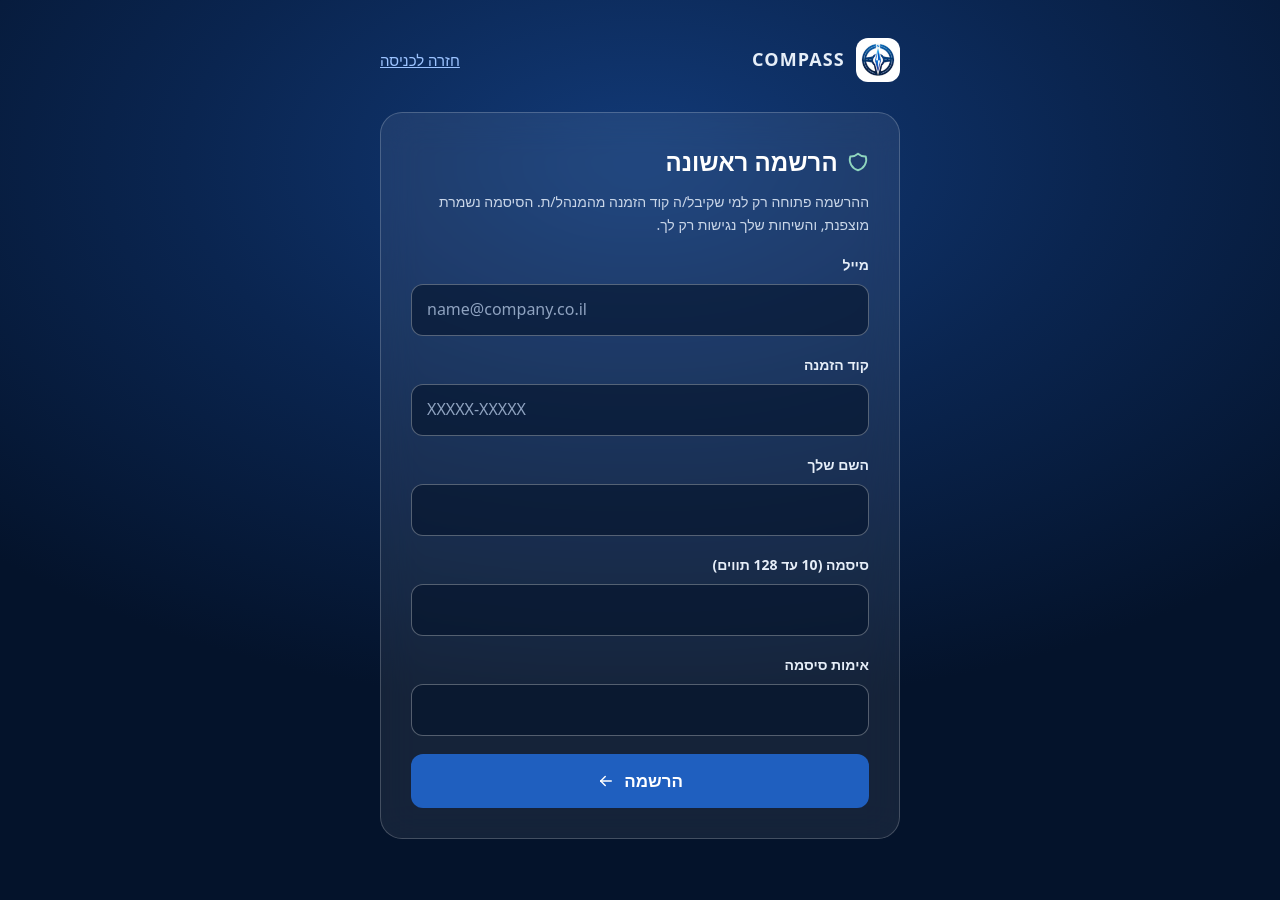
register › checks the password before it submits anything
Type "new@example.com" into the field labelled "מייל". click: (640, 310)
box: [411,284,869,336]
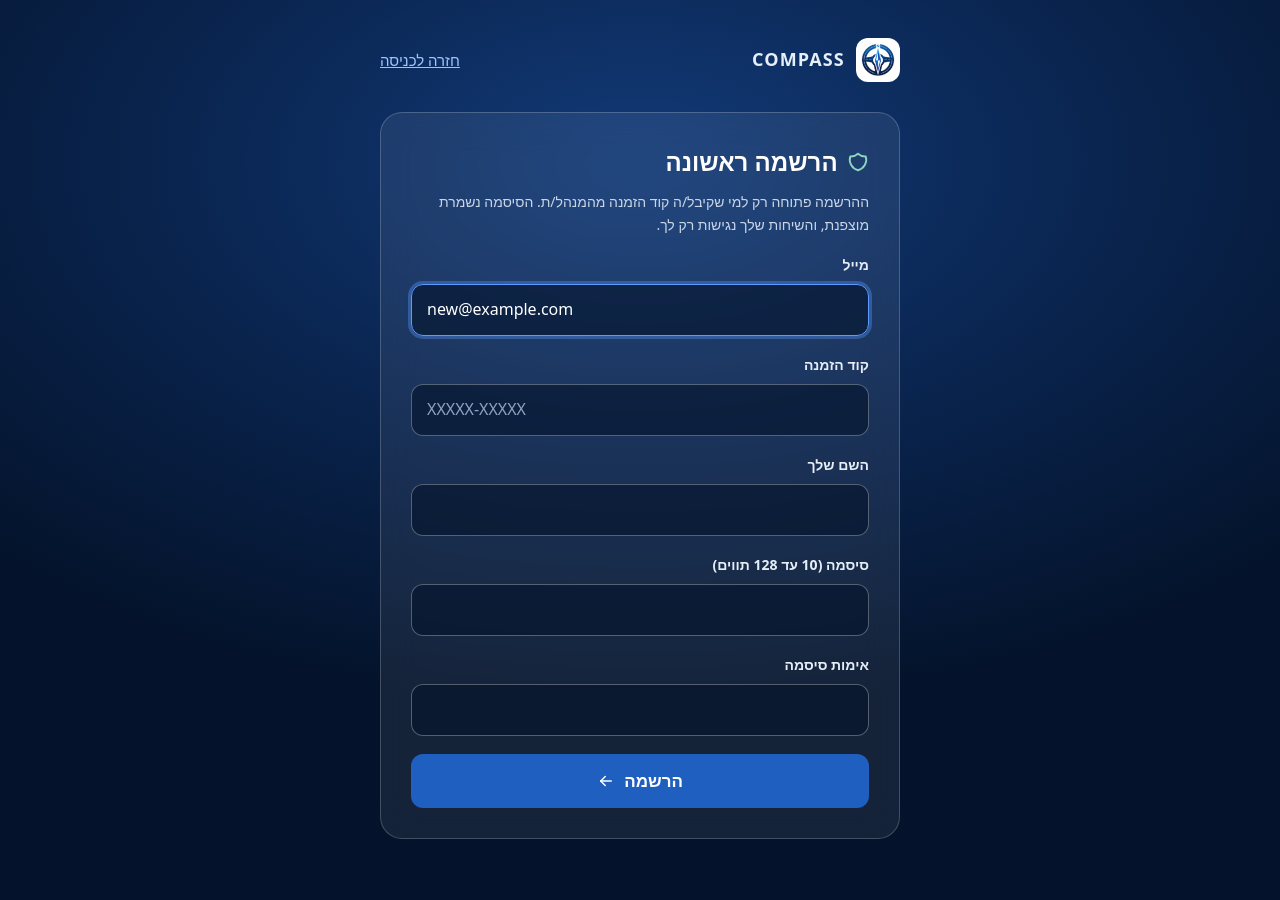
Type "abcdefghjk" into the field labelled "קוד הזמנה". click: (640, 410)
box: [411,384,869,436]
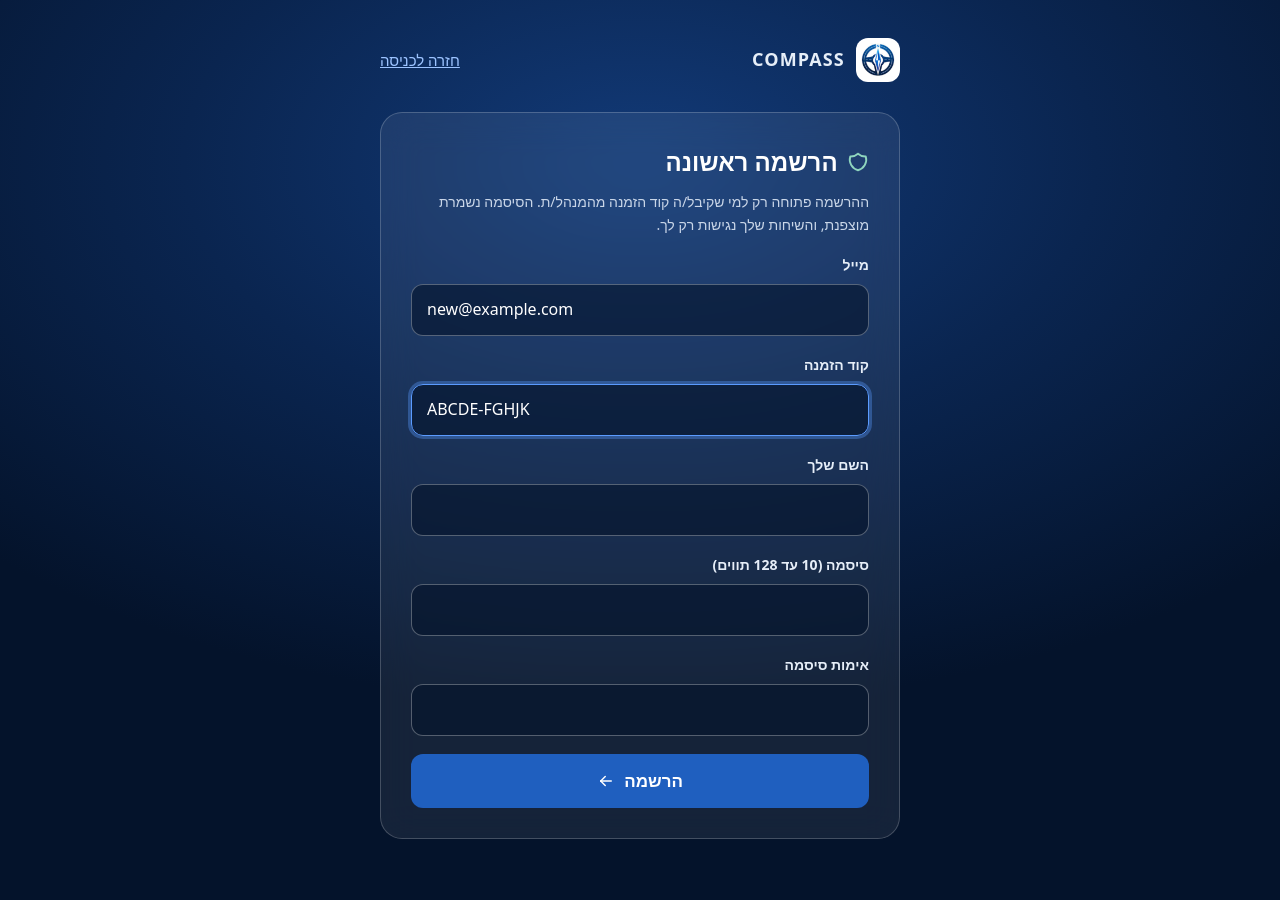
Type "נועה" into the field labelled "השם שלך". click: (640, 510)
box: [411,484,869,536]
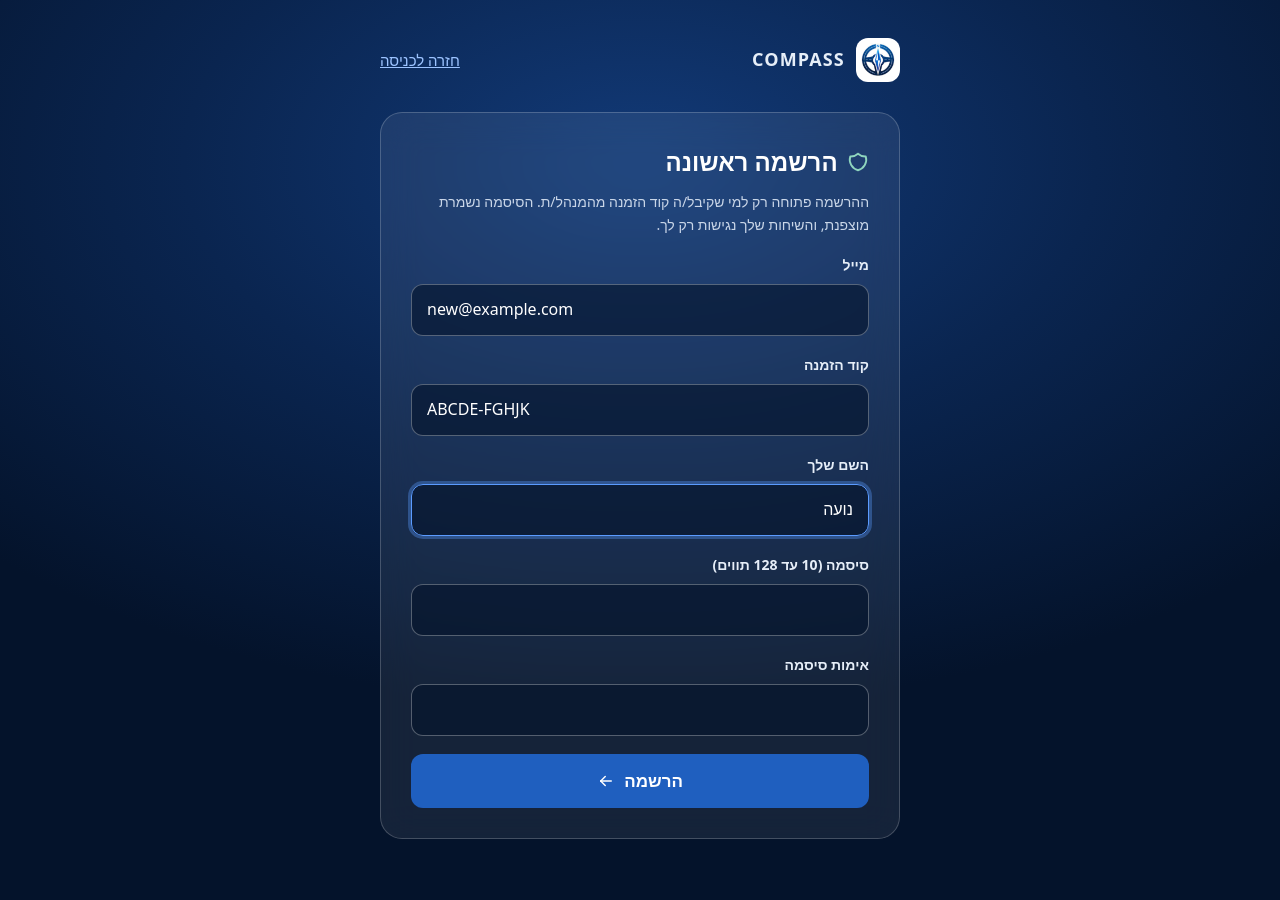
Type "short" into the password field labelled "סיסמה (10 עד 128 תווים)". click: (640, 610)
box: [411,584,869,636]
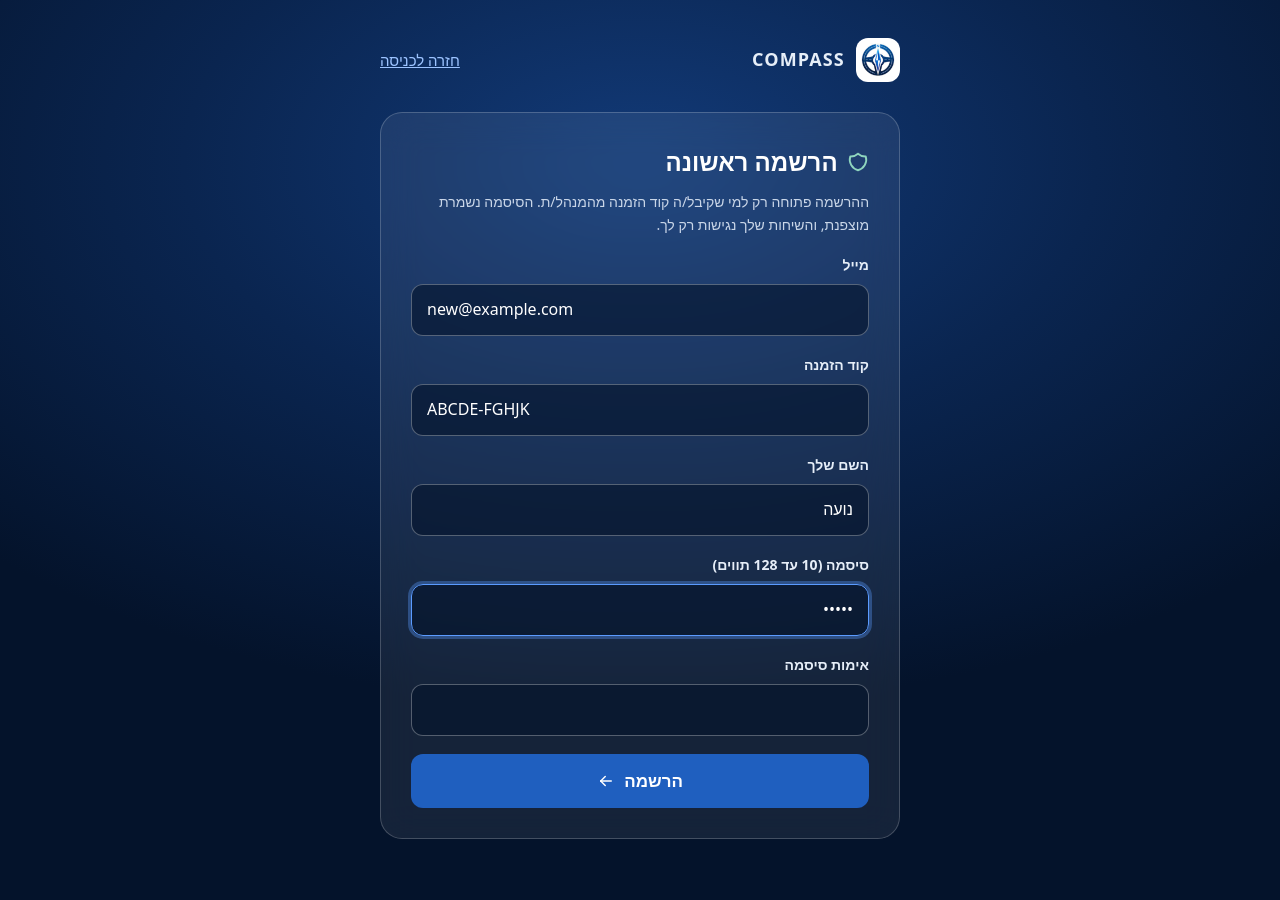
Type "short" into the password field labelled "אימות סיסמה". click: (640, 710)
box: [411,684,869,736]
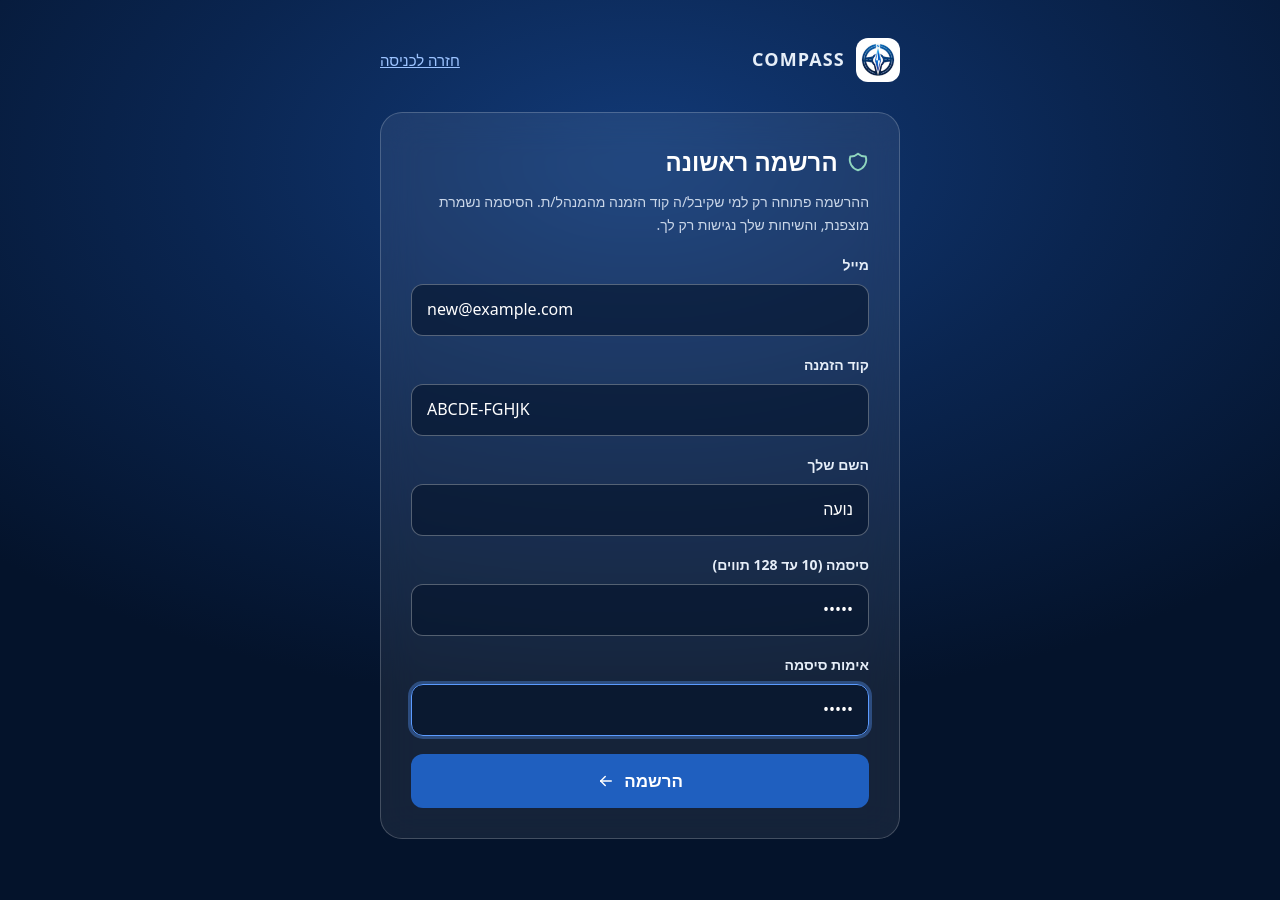
Click the button "הרשמה". click: (640, 781)
box: [411,754,869,808]
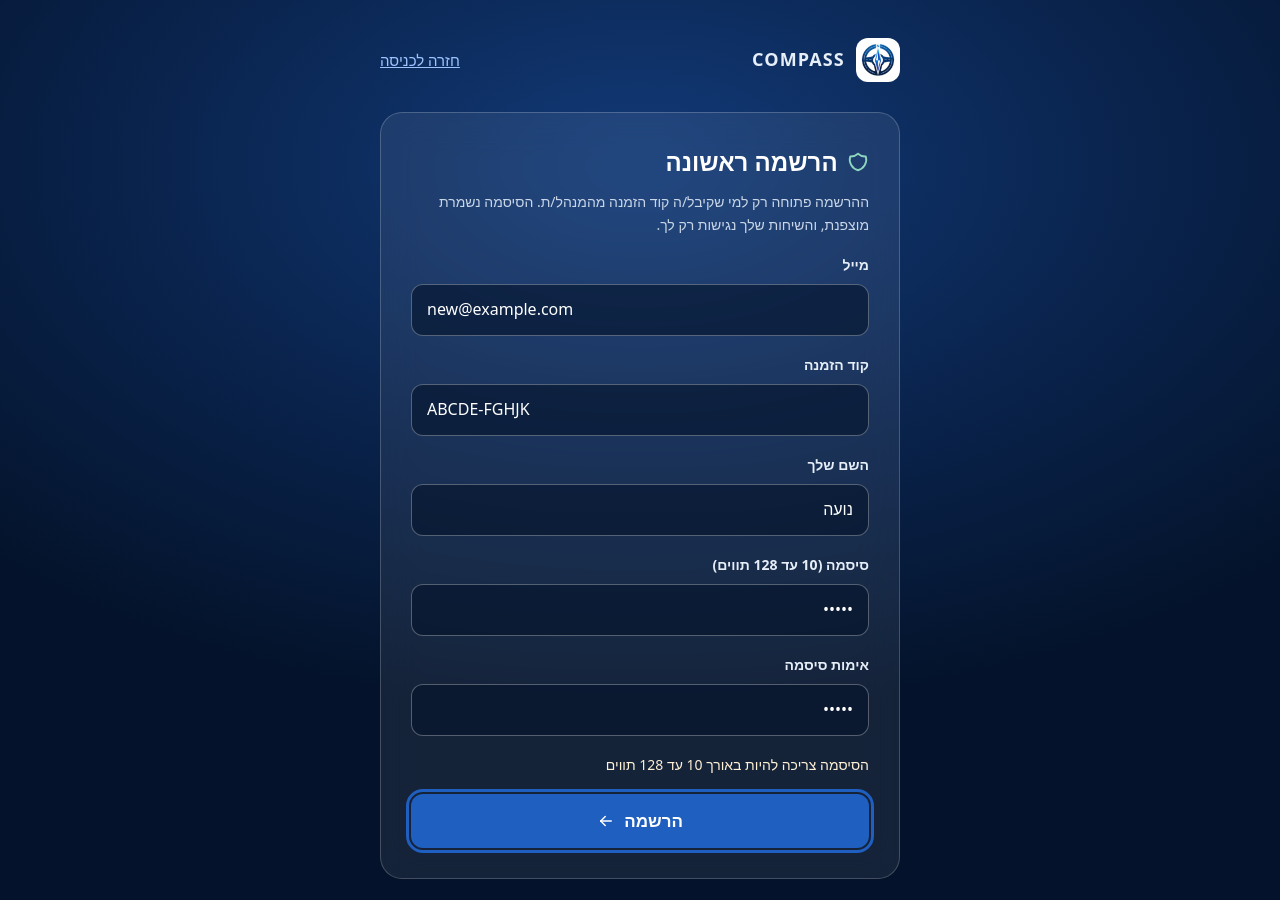
Expected: the message shows "באורך 10 עד 128 תווים", [606,755,869,774]
